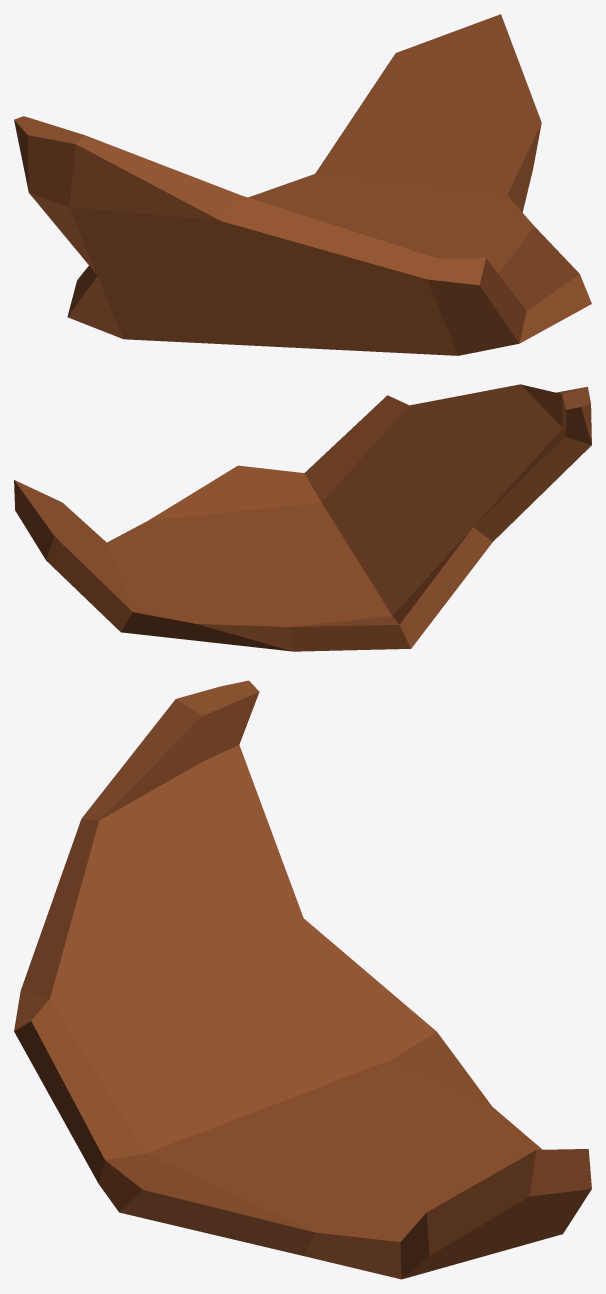
Rendered from Collin_BrokenVase_001_Piece_002.fbx.
3 views of the same model, one above another, from view 1: azimuth 30°, elevation 25°; view 2: azimuth 150°, elevation 25°; view 3: azimuth 270°, elevation 25° (orthographic). The views are drawn at different scales.
Visible parts, largest first — view 1: Broken_Vase_005_BrokenPiece_002; view 2: Broken_Vase_005_BrokenPiece_002; view 3: Broken_Vase_005_BrokenPiece_002.
Part boxes in pixels (left/top/right/bottom): Broken_Vase_005_BrokenPiece_002: left=14, top=14, right=591, bottom=355; Broken_Vase_005_BrokenPiece_002: left=14, top=384, right=591, bottom=651; Broken_Vase_005_BrokenPiece_002: left=14, top=680, right=591, bottom=1279.
Size of the model in its own units: 39.43 by 18.65 by 30.44.
1 material, 1 textured.
